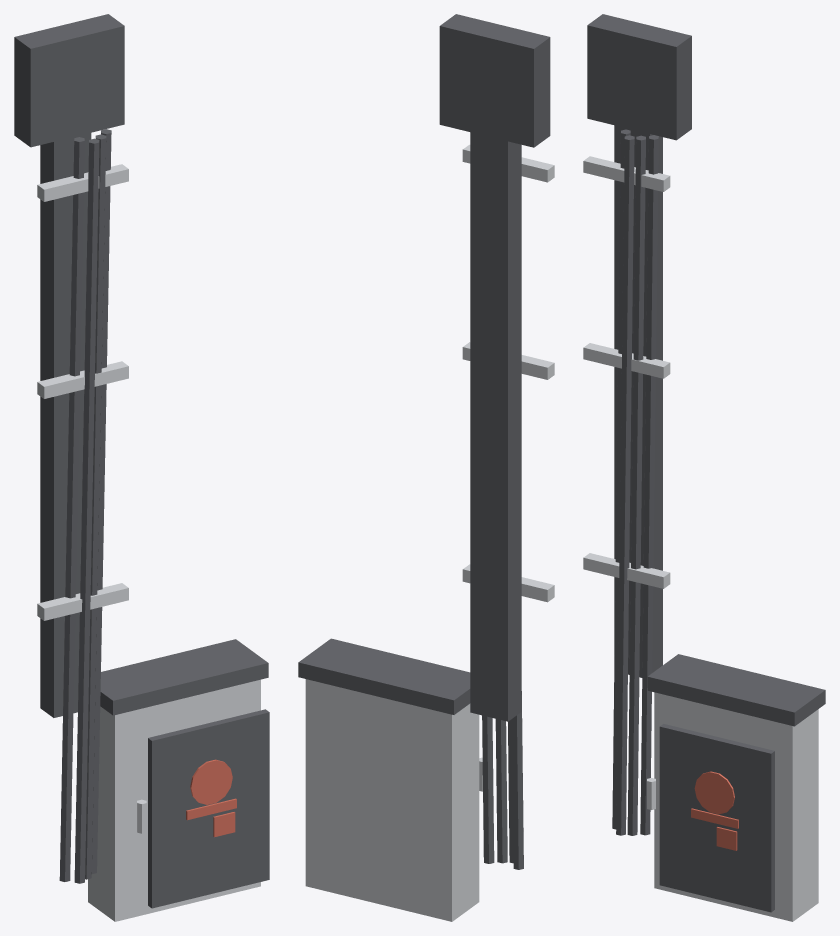
The model's file is meter_box_and_cable_bundle.glb.
3 views of the same model, side by side, from view 1: azimuth 30°, elevation 25°; view 2: azimuth 150°, elevation 25°; view 3: azimuth 330°, elevation 25° (orthographic). The views are drawn at different scales.
Parts seen in each view (by area): view 1: meter-box-and-cable-bundle-charcoal, meter-box-and-cable-bundle-steel, meter-box-and-cable-bundle-vermilion; view 2: meter-box-and-cable-bundle-charcoal, meter-box-and-cable-bundle-steel; view 3: meter-box-and-cable-bundle-charcoal, meter-box-and-cable-bundle-steel, meter-box-and-cable-bundle-vermilion.
Boxes of the visible parts, x1=… form: meter-box-and-cable-bundle-charcoal: x1=14, y1=14, x2=269, y2=908; meter-box-and-cable-bundle-steel: x1=37, y1=164, x2=260, y2=921; meter-box-and-cable-bundle-vermilion: x1=186, y1=759, x2=236, y2=837; meter-box-and-cable-bundle-charcoal: x1=298, y1=14, x2=550, y2=869; meter-box-and-cable-bundle-steel: x1=305, y1=144, x2=554, y2=921; meter-box-and-cable-bundle-charcoal: x1=587, y1=14, x2=825, y2=912; meter-box-and-cable-bundle-steel: x1=583, y1=156, x2=818, y2=921; meter-box-and-cable-bundle-vermilion: x1=691, y1=771, x2=738, y2=850.
Bounding box in the file's own units: 0.9699 × 3.6 × 0.3474.
